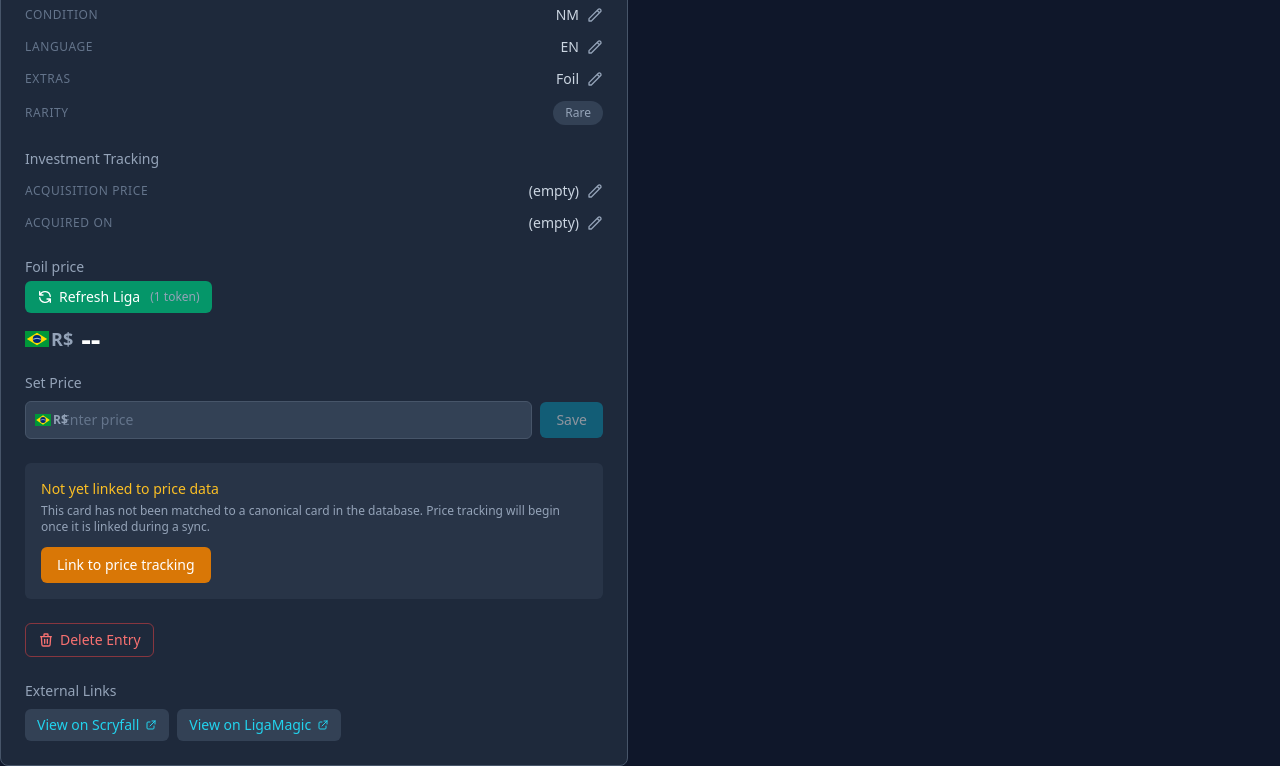
Test case: CollectionCardDetail page › canonize full success shows green message
(page scrolled)
Click the button with test id "canonize-btn": (126, 565) 41,547 -> 211,583
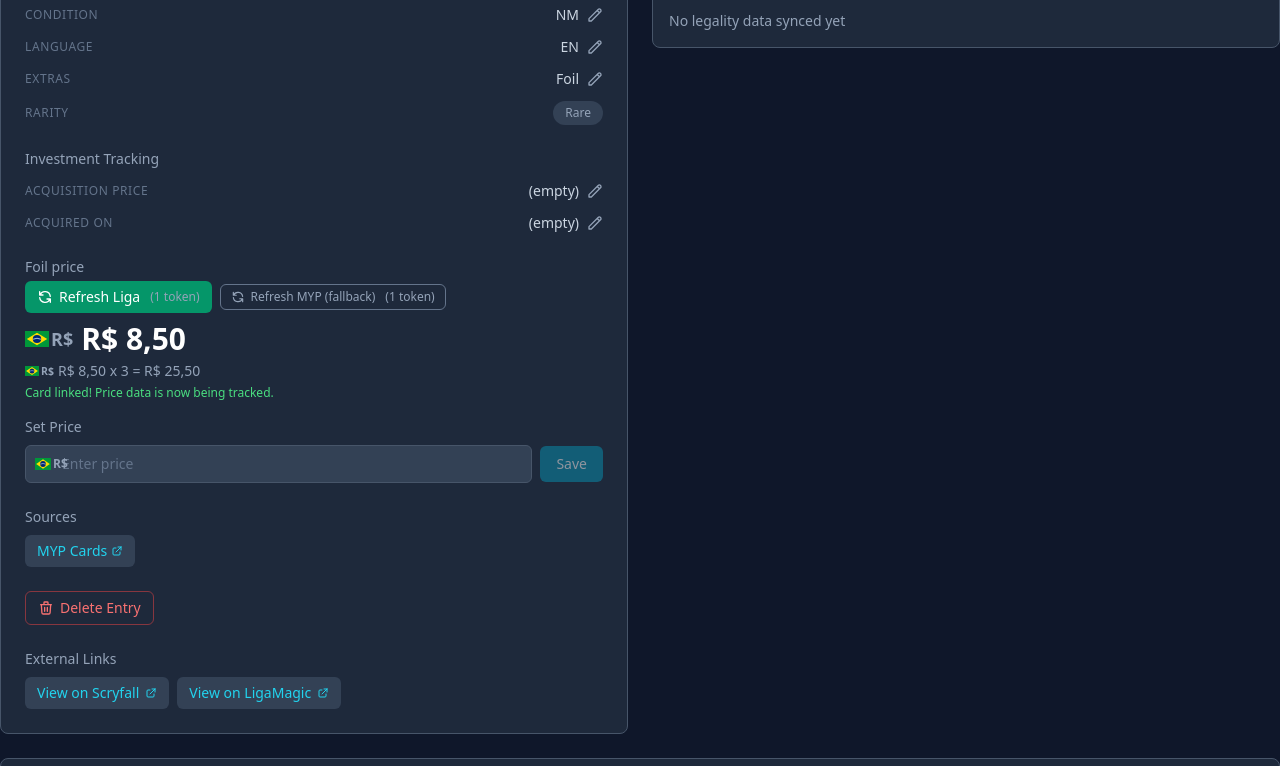
Expected: the text "Card linked! Price data is now being tracked." is shown, 25,384 -> 274,401
